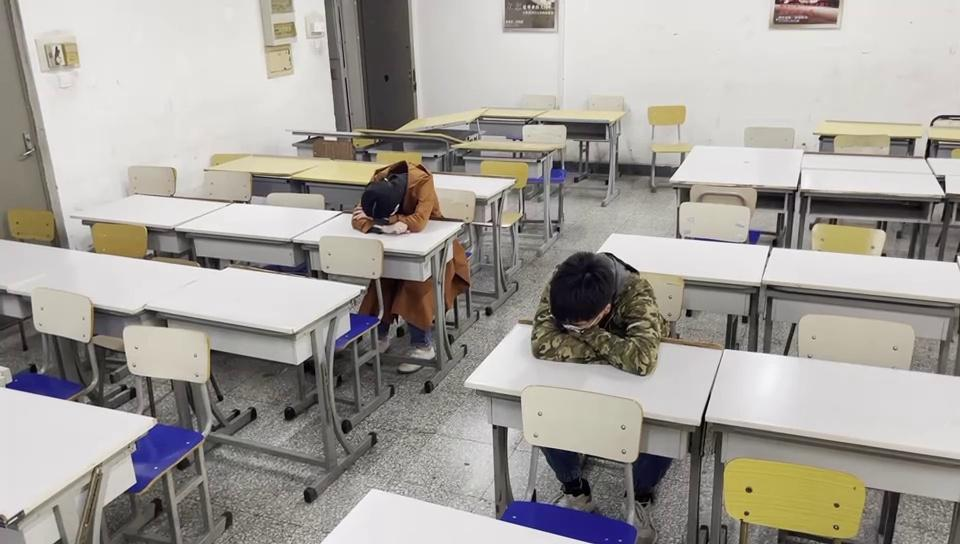sleep: (531, 259, 662, 374), (352, 164, 428, 228)
